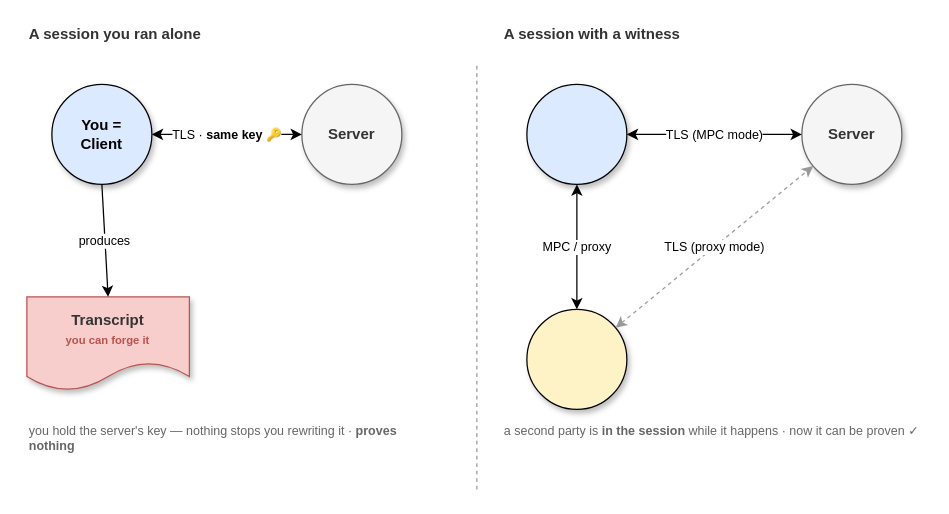
Some shapes in this 949 by 514 pixel diagram are drawn without their labels. The shapes that lost their labels are listed below. From the top down, each one's centre as x and y in pixels, then its label:
At pixel 577 135: "You = Prover".
At pixel 577 360: "Witness = Verifier".
